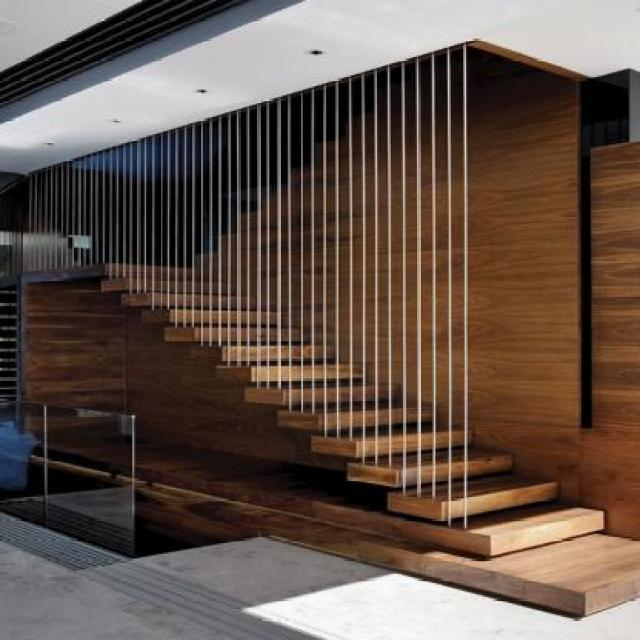stair: (51, 194, 638, 611)
